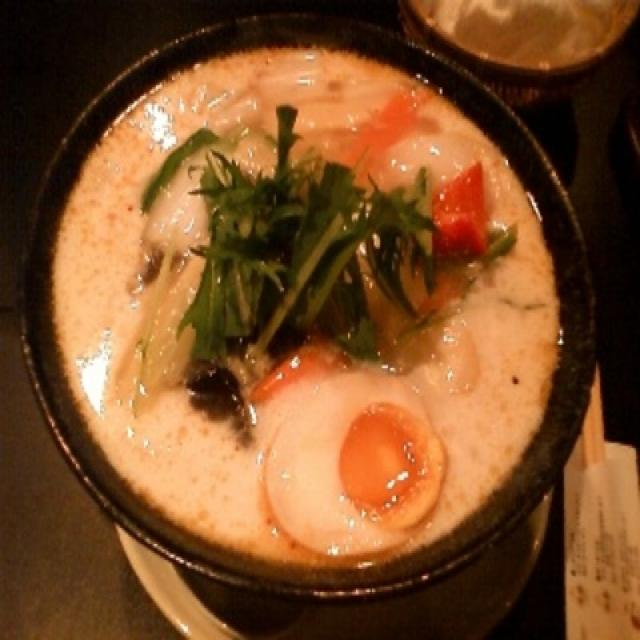面条主食: (20, 12, 592, 640)
